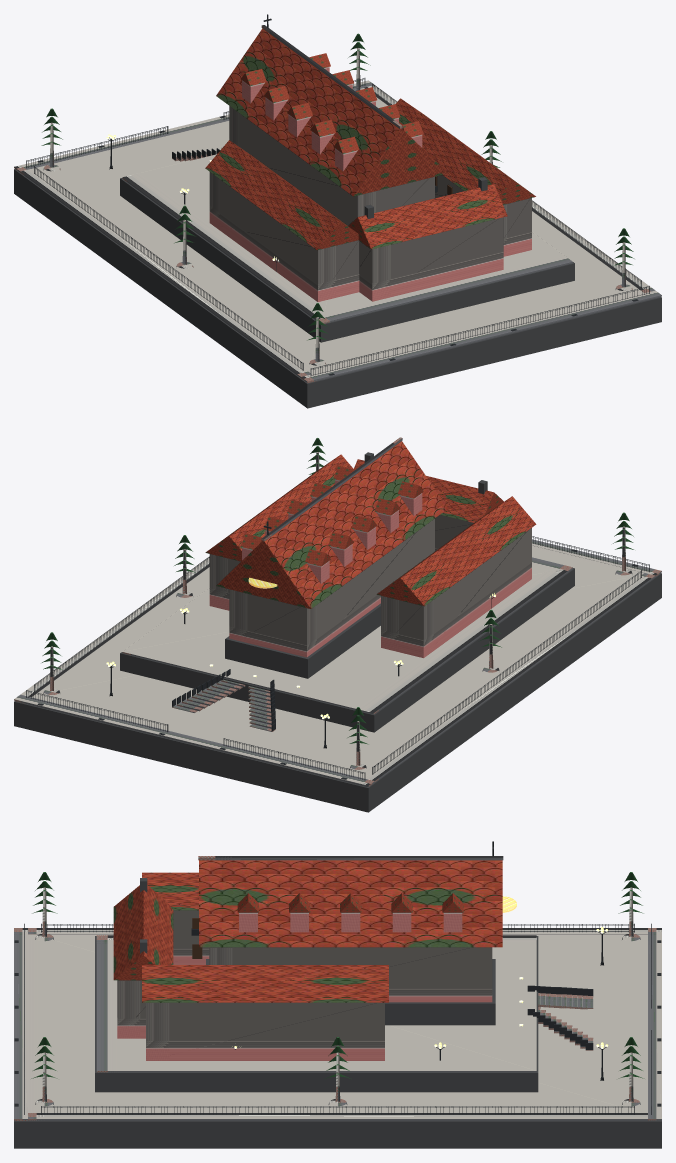
File: ultra_lm_10_domaine_de_marie.glb
The picture shows the model from 3 angles, top to bottom: view 1: azimuth 30°, elevation 25°; view 2: azimuth 150°, elevation 25°; view 3: azimuth 270°, elevation 25°; orthographic projection. The views are drawn at different scales.
Parts seen in each view (by area): view 1: Mesh_Domaine_MaiAnh_YStairs_GraniteCurb_And_WormBrick, Mesh_Domaine_Steep_RongStyle_Marseille_Roof, Mesh_Domaine_Copernicus_Minus3p5m_SplitStone_Skirt, Mesh_Domaine_Normandy_RosePink_Limewash_Facade, Mesh_Domaine_Cross_WroughtIron_And_5GlobeLamps, Mesh_Domaine_MaiAnh_Garden_And_Bougainvillea; view 2: Mesh_Domaine_MaiAnh_YStairs_GraniteCurb_And_WormBrick, Mesh_Domaine_Copernicus_Minus3p5m_SplitStone_Skirt, Mesh_Domaine_Steep_RongStyle_Marseille_Roof, Mesh_Domaine_Normandy_RosePink_Limewash_Facade, Mesh_Domaine_Cross_WroughtIron_And_5GlobeLamps, Mesh_Domaine_MaiAnh_Garden_And_Bougainvillea; view 3: Mesh_Domaine_MaiAnh_YStairs_GraniteCurb_And_WormBrick, Mesh_Domaine_Steep_RongStyle_Marseille_Roof, Mesh_Domaine_Copernicus_Minus3p5m_SplitStone_Skirt, Mesh_Domaine_Normandy_RosePink_Limewash_Facade, Mesh_Domaine_Cross_WroughtIron_And_5GlobeLamps, Mesh_Domaine_MaiAnh_Garden_And_Bougainvillea.
Part boxes in pixels (box(x1,y1,x2,y2)): Mesh_Domaine_MaiAnh_YStairs_GraniteCurb_And_WormBrick: box(14, 25, 661, 382); Mesh_Domaine_Steep_RongStyle_Marseille_Roof: box(205, 28, 535, 250); Mesh_Domaine_Copernicus_Minus3p5m_SplitStone_Skirt: box(14, 169, 661, 408); Mesh_Domaine_Normandy_RosePink_Limewash_Facade: box(209, 67, 531, 301); Mesh_Domaine_Cross_WroughtIron_And_5GlobeLamps: box(26, 14, 649, 376); Mesh_Domaine_MaiAnh_Garden_And_Bougainvillea: box(41, 33, 634, 340); Mesh_Domaine_MaiAnh_YStairs_GraniteCurb_And_WormBrick: box(14, 437, 661, 786); Mesh_Domaine_Copernicus_Minus3p5m_SplitStone_Skirt: box(14, 452, 661, 812); Mesh_Domaine_Steep_RongStyle_Marseille_Roof: box(205, 441, 536, 608); Mesh_Domaine_Normandy_RosePink_Limewash_Facade: box(209, 479, 531, 658); Mesh_Domaine_Cross_WroughtIron_And_5GlobeLamps: box(26, 521, 649, 780); Mesh_Domaine_MaiAnh_Garden_And_Bougainvillea: box(42, 438, 633, 744); Mesh_Domaine_MaiAnh_YStairs_GraniteCurb_And_WormBrick: box(14, 856, 661, 1120); Mesh_Domaine_Steep_RongStyle_Marseille_Roof: box(113, 860, 502, 1002); Mesh_Domaine_Copernicus_Minus3p5m_SplitStone_Skirt: box(14, 878, 661, 1148); Mesh_Domaine_Normandy_RosePink_Limewash_Facade: box(117, 910, 492, 1060); Mesh_Domaine_Cross_WroughtIron_And_5GlobeLamps: box(14, 841, 661, 1114); Mesh_Domaine_MaiAnh_Garden_And_Bougainvillea: box(31, 872, 644, 1078).
Bounding box in the file's own units: 53 × 27.4 × 76.
9 materials, 4 textured.
